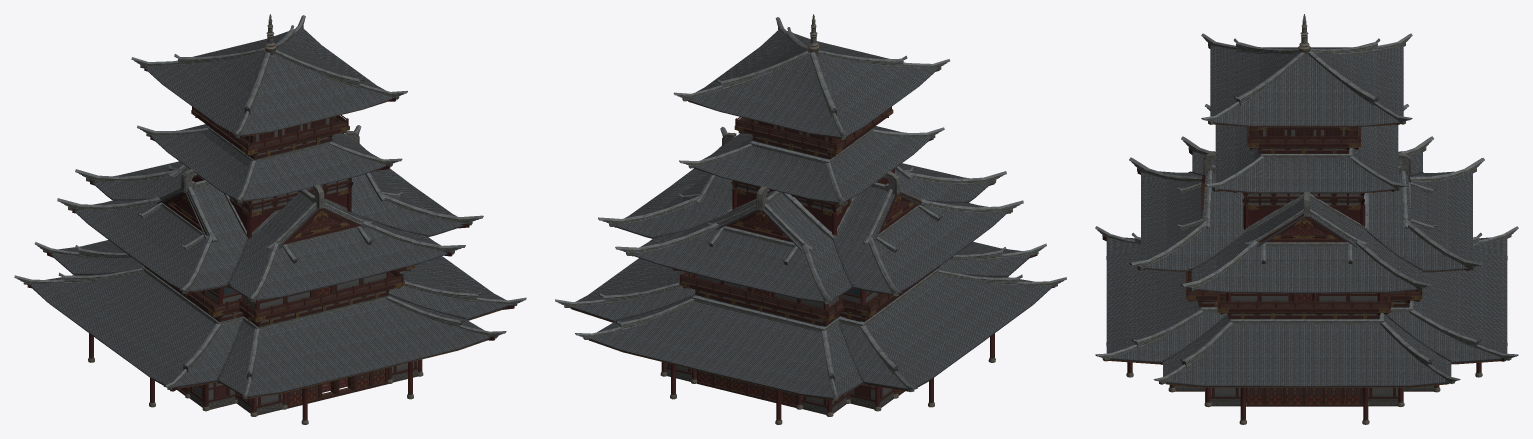
Rendered from JadePalace.fbx.
3 views of the same model, side by side, from view 1: azimuth 30°, elevation 25°; view 2: azimuth 150°, elevation 25°; view 3: azimuth 270°, elevation 25° (orthographic).
Visible parts, largest first — view 1: wu_wa, qiang_ti, pei_jian; view 2: wu_wa, qiang_ti, pei_jian; view 3: wu_wa, qiang_ti, pei_jian.
Boxes of the visible parts, bbox=[...] form: wu_wa: bbox=[14, 15, 526, 398]; qiang_ti: bbox=[144, 110, 419, 415]; pei_jian: bbox=[27, 14, 514, 424]; wu_wa: bbox=[555, 17, 1066, 400]; qiang_ti: bbox=[666, 109, 939, 414]; pei_jian: bbox=[570, 14, 1055, 424]; wu_wa: bbox=[1095, 33, 1518, 387]; qiang_ti: bbox=[1174, 126, 1434, 406]; pei_jian: bbox=[1102, 14, 1505, 424].
Bounding box in the file's own units: 1813 × 1595 × 1821.
Materials: 5 (5 with a texture image).
